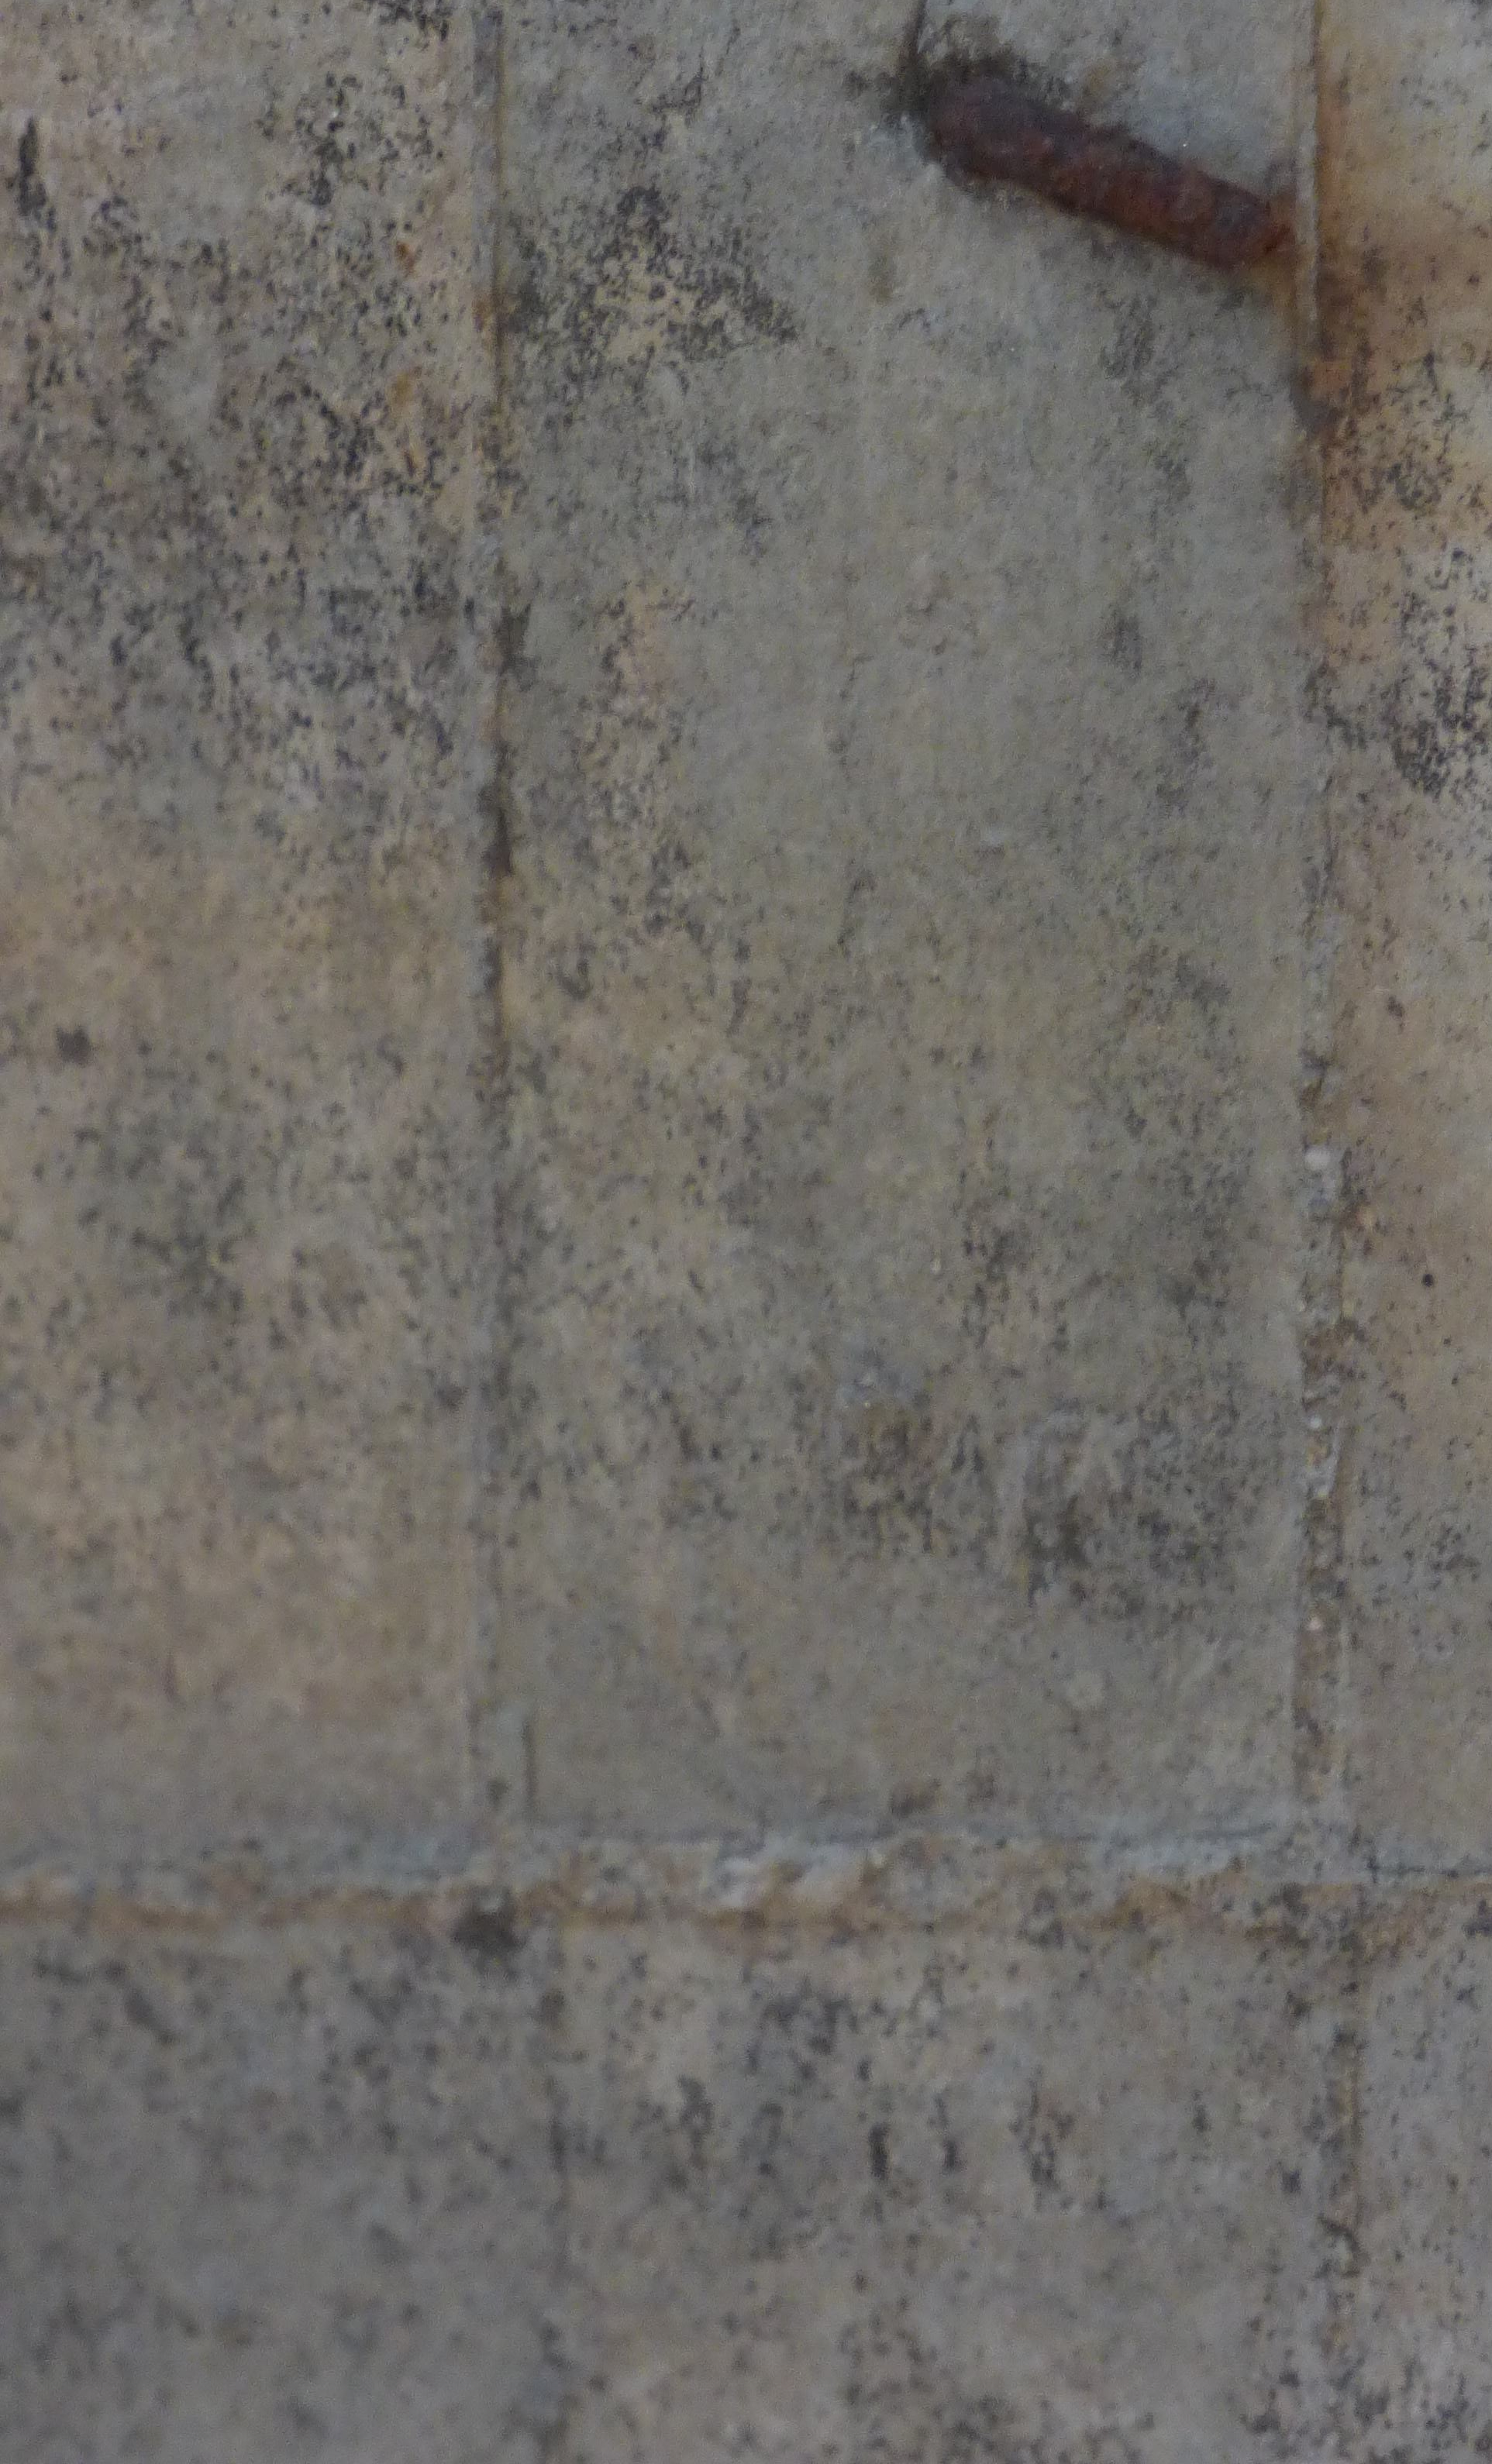Exposed reinforcement: (925, 74, 1284, 266)
